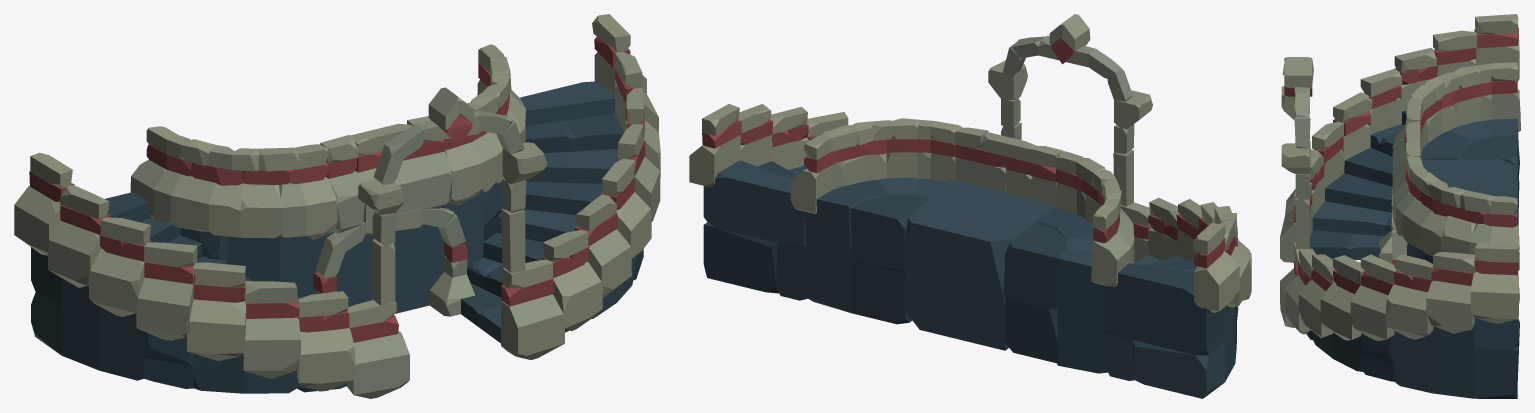
File: level_element_stairs_round_01.fbx
3 views of the same model, side by side, from view 1: azimuth 30°, elevation 25°; view 2: azimuth 150°, elevation 25°; view 3: azimuth 270°, elevation 25° (orthographic). The views are drawn at different scales.
Visible parts, largest first — view 1: level_element_stairs_round_01; view 2: level_element_stairs_round_01; view 3: level_element_stairs_round_01.
Part boxes in pixels (x1=…): level_element_stairs_round_01: x1=14, y1=14, x2=660, y2=398; level_element_stairs_round_01: x1=689, y1=14, x2=1251, y2=398; level_element_stairs_round_01: x1=1280, y1=14, x2=1520, y2=398.
Size of the model in its own units: 1055 by 471 by 434.
